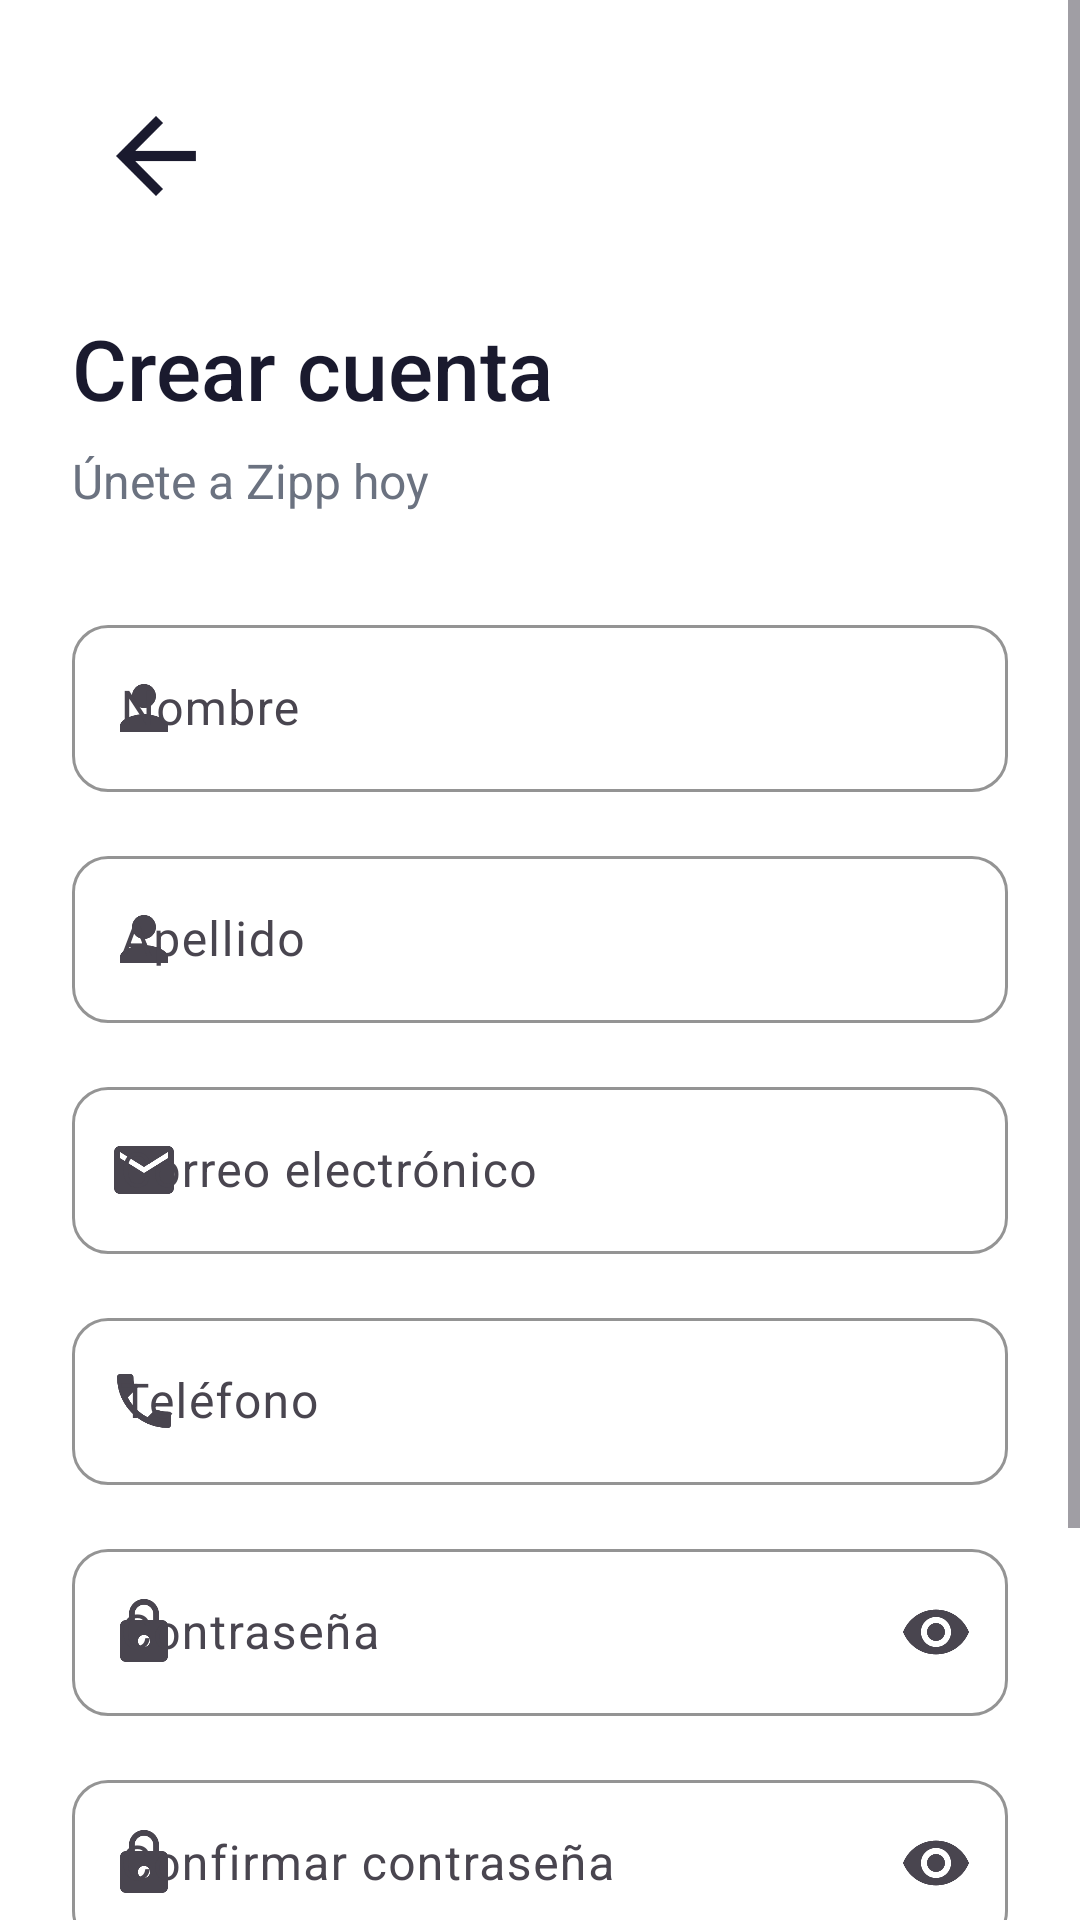

Icon click points for this 1080px x 1920px phone screenshot, format point (x, y):
Volver: point (156, 156)
